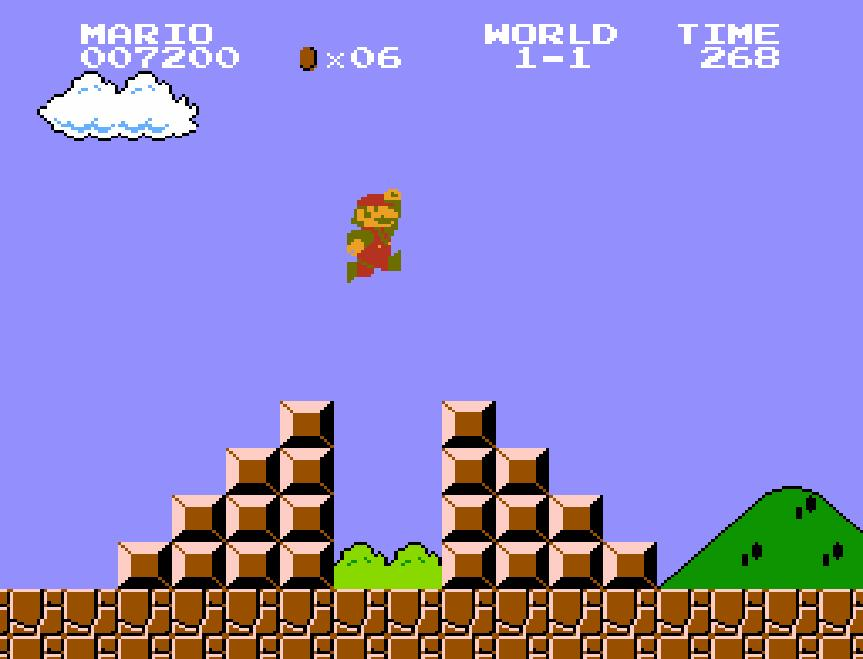big_mario: (345, 186, 403, 284)
